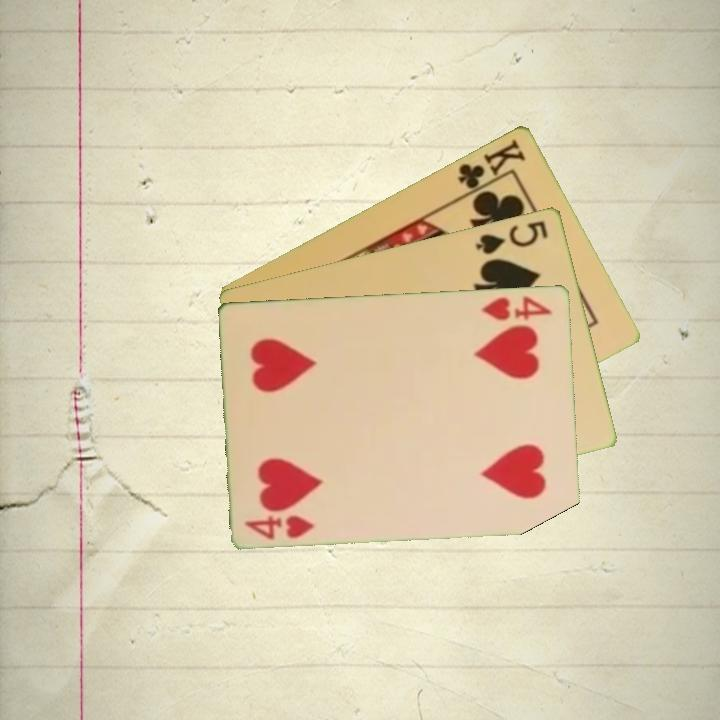4h: (479, 292, 555, 323), (242, 511, 317, 542)
5s: (472, 216, 551, 257)
Kc: (454, 135, 529, 199)
